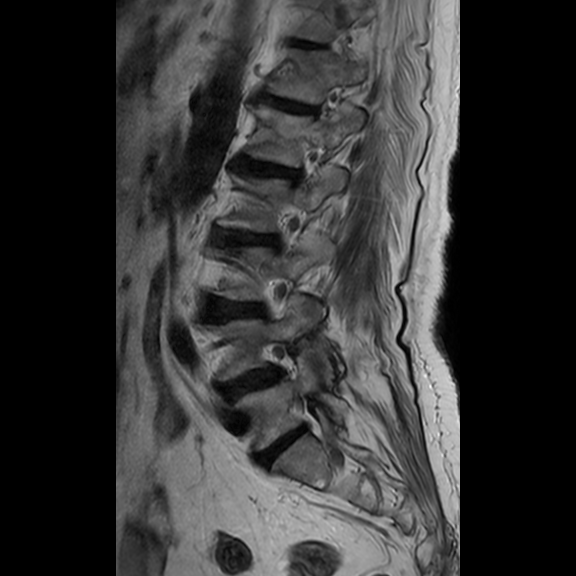LFS0: (257, 262, 302, 333), (257, 335, 310, 390)
